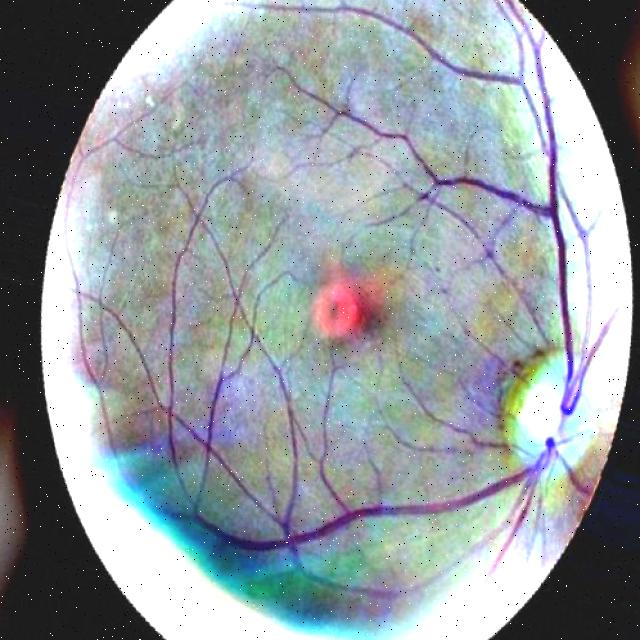Macula: (307, 275, 371, 346)
Nerves: (166, 0, 619, 586), (400, 365, 529, 455), (564, 195, 601, 339), (460, 208, 515, 279), (511, 280, 560, 357)
Optic Disk: (501, 347, 601, 481)
